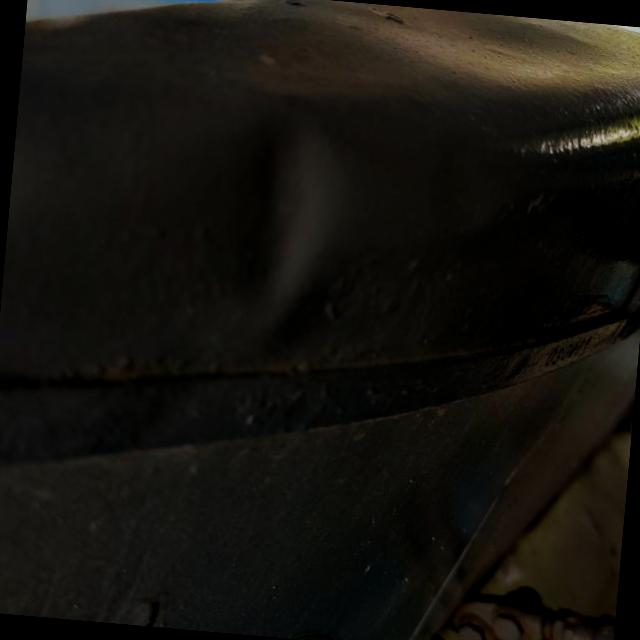dent: (172, 92, 368, 337)
